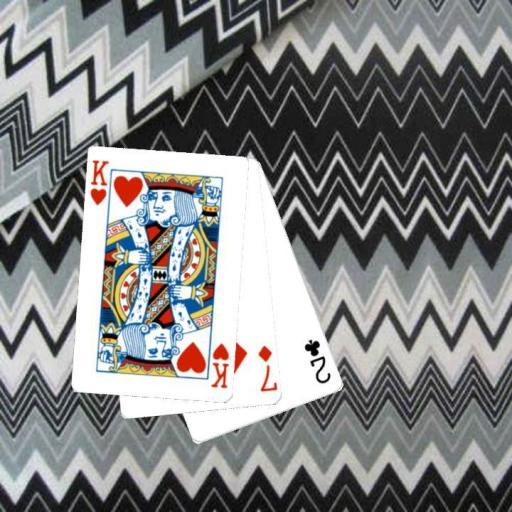2C: (301, 337, 333, 386)
7D: (255, 342, 277, 394)
KH: (87, 157, 111, 208), (208, 341, 231, 390)
